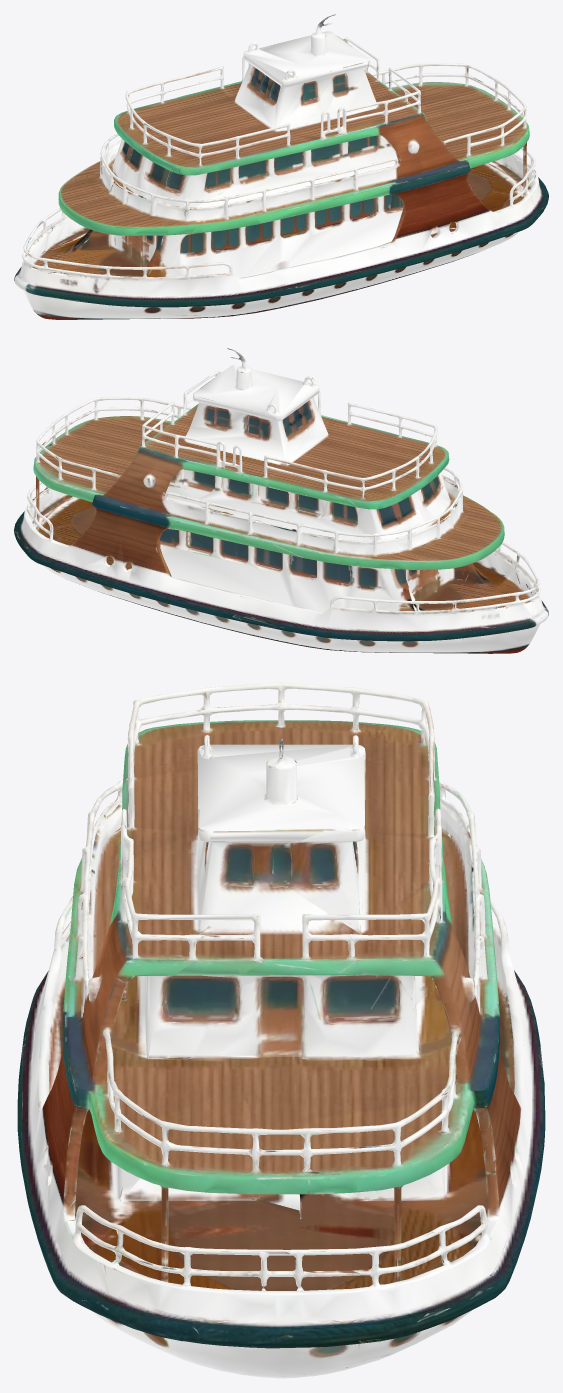
Rendered from ferry.glb.
The picture shows the model from 3 angles, top to bottom: view 1: azimuth 30°, elevation 25°; view 2: azimuth 150°, elevation 25°; view 3: azimuth 270°, elevation 25°; orthographic projection. The views are drawn at different scales.
Visible parts, largest first — view 1: Mesh1.0; view 2: Mesh1.0; view 3: Mesh1.0.
Part boxes in pixels (x1,y1,x2,y2): Mesh1.0: (14, 14, 548, 319); Mesh1.0: (14, 348, 548, 653); Mesh1.0: (17, 682, 545, 1378).
Size of the model in its own units: 1.91 by 0.8422 by 0.853.
1 material, 1 textured.
